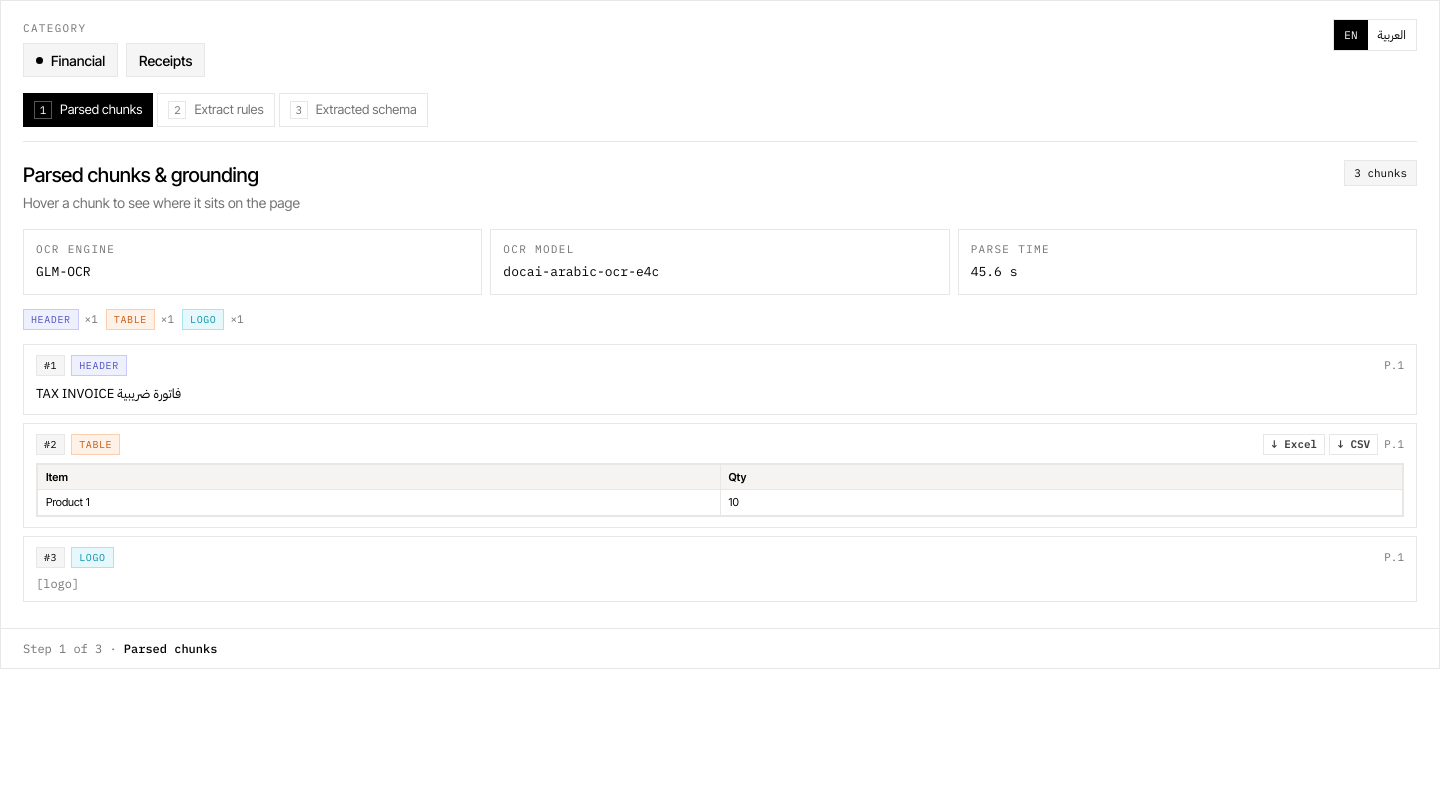
Test case: step numbers count only the visible steps
The width and height of the screenshot is (1440, 810).
Click the button "3 Extracted schema": (353, 110) x1=279 y1=93 x2=428 y2=127
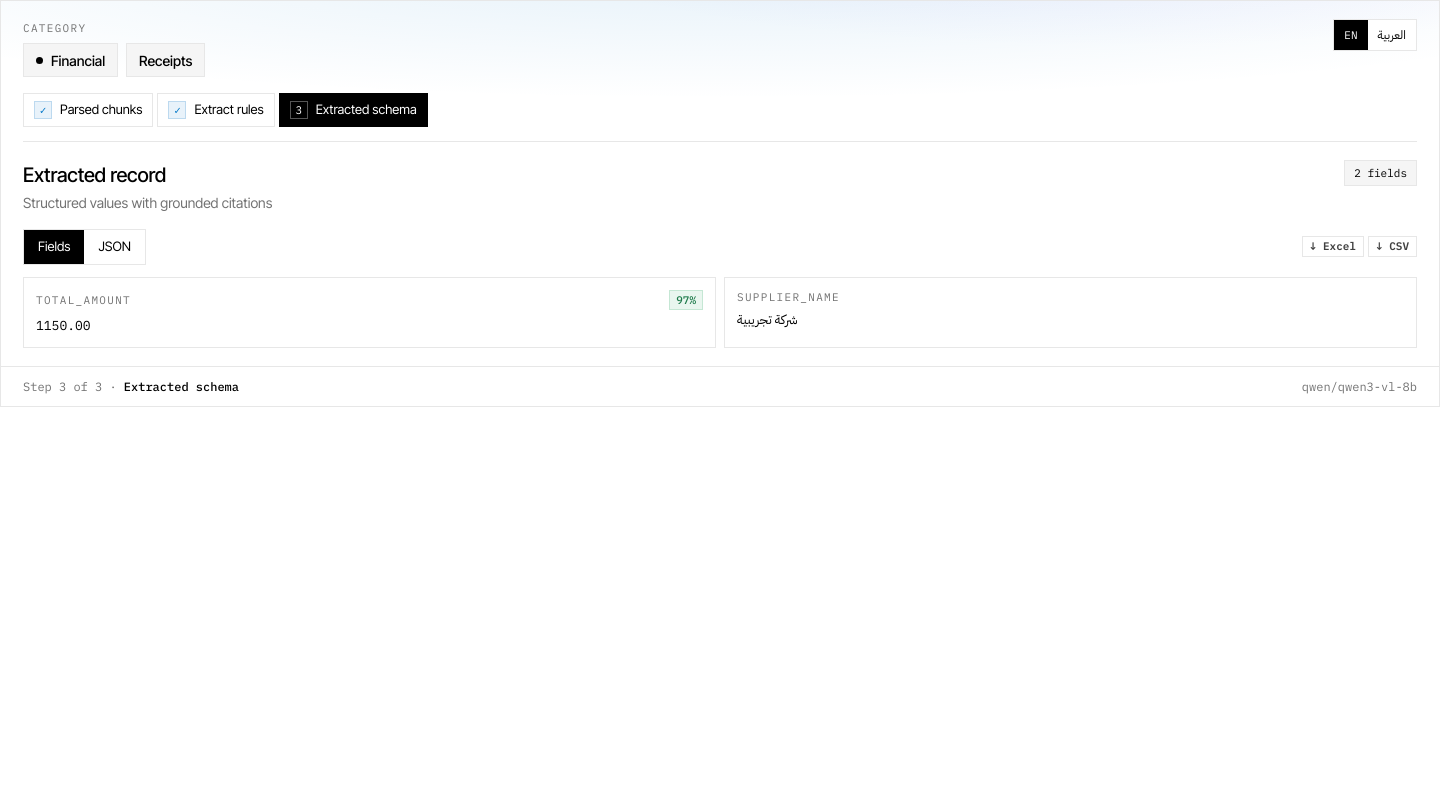
Expected: the text "Step 3 of 3" is shown, x1=23 y1=379 x2=102 y2=394
